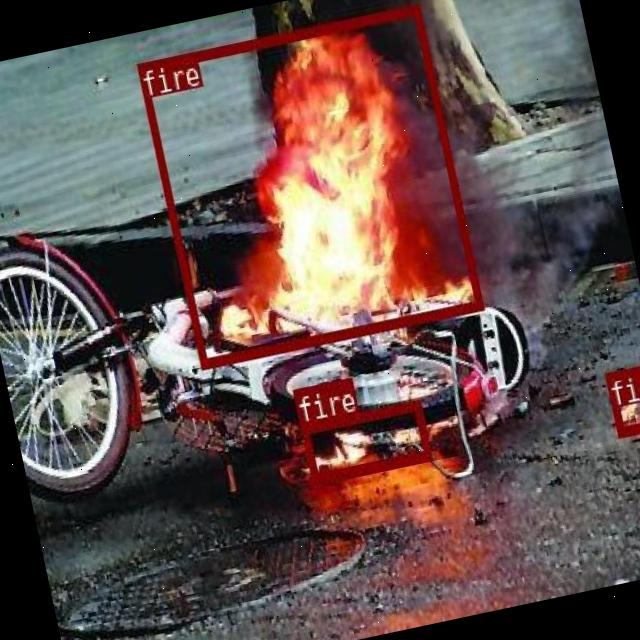fire: (136, 3, 482, 368), (299, 398, 431, 482), (602, 364, 640, 435)
